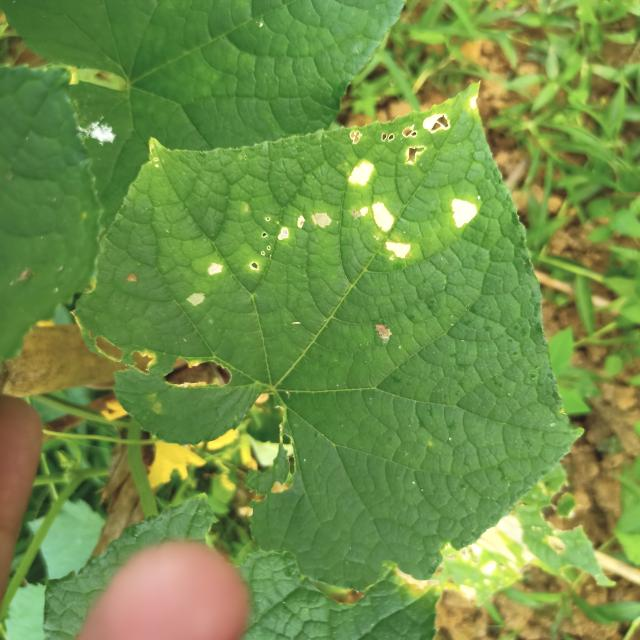disease_cucumber: (164, 109, 479, 322)
